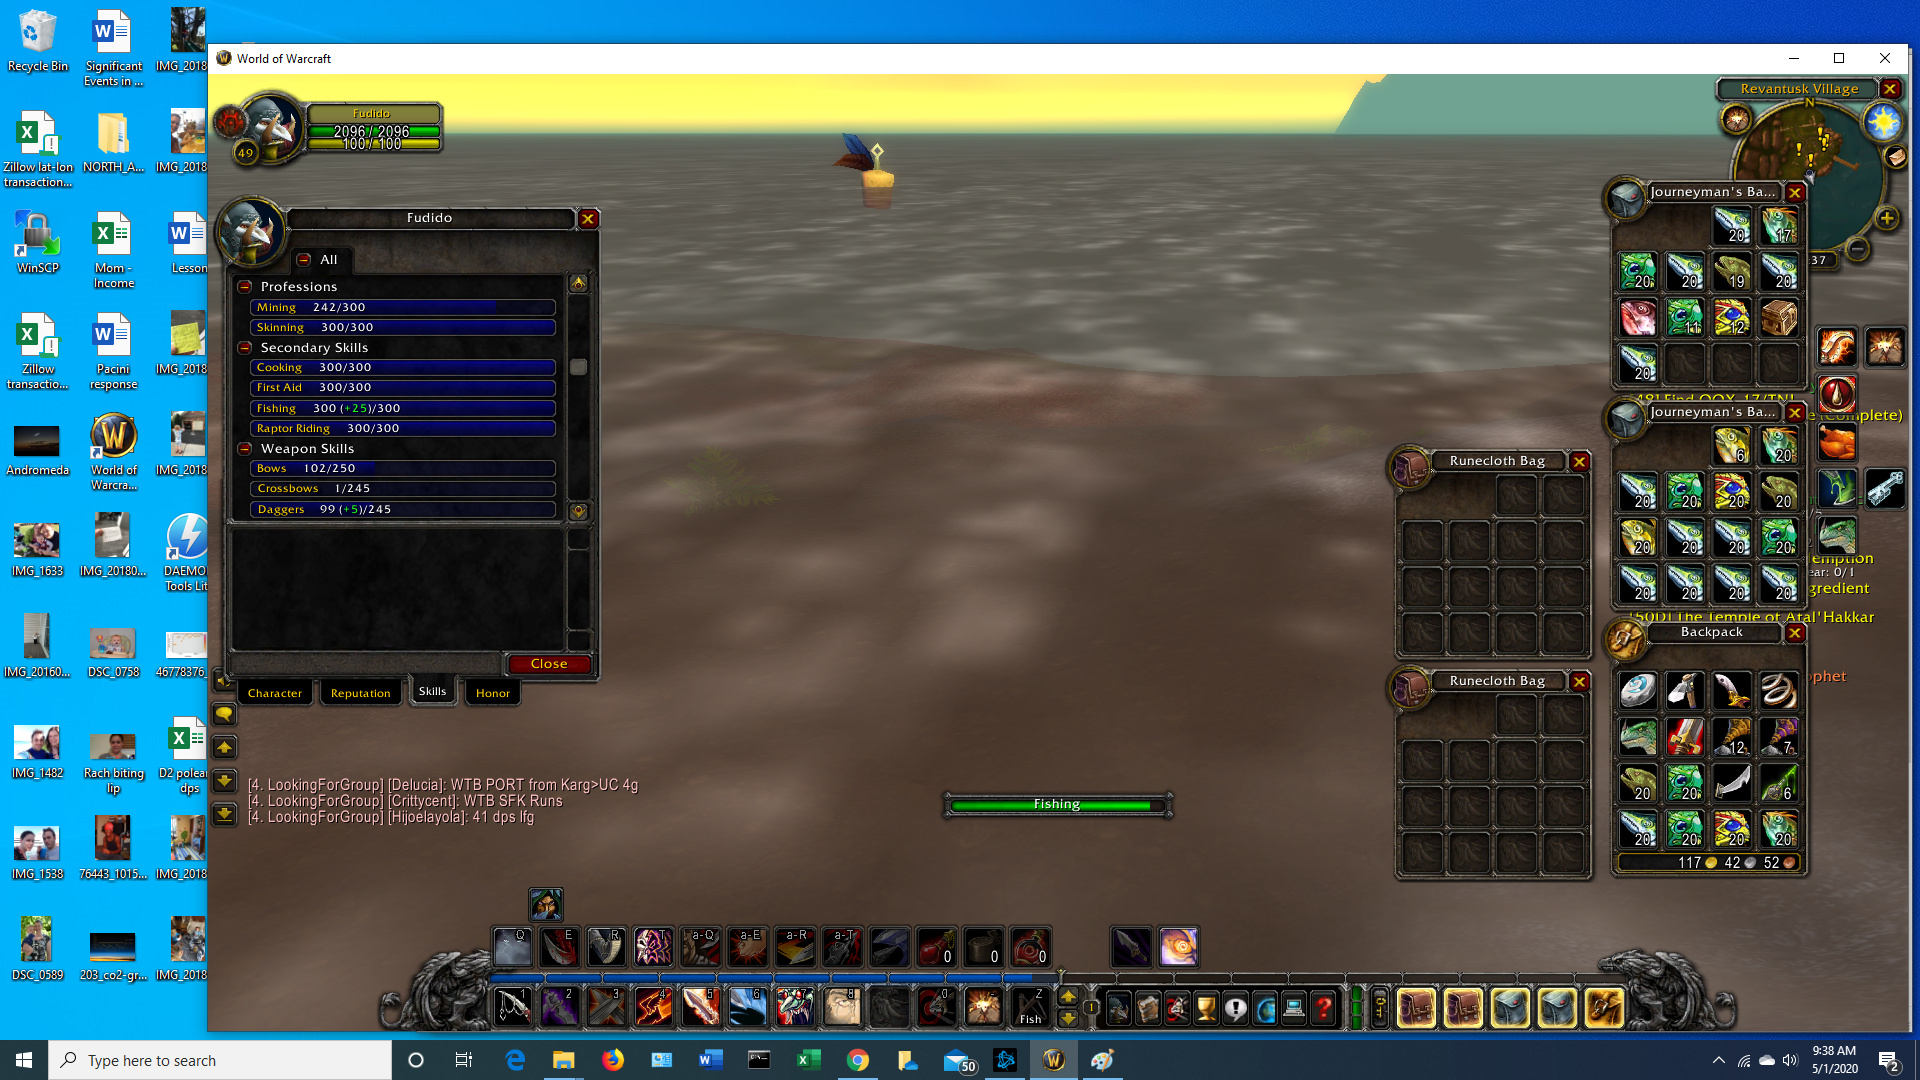bobble: (831, 128, 909, 210)
